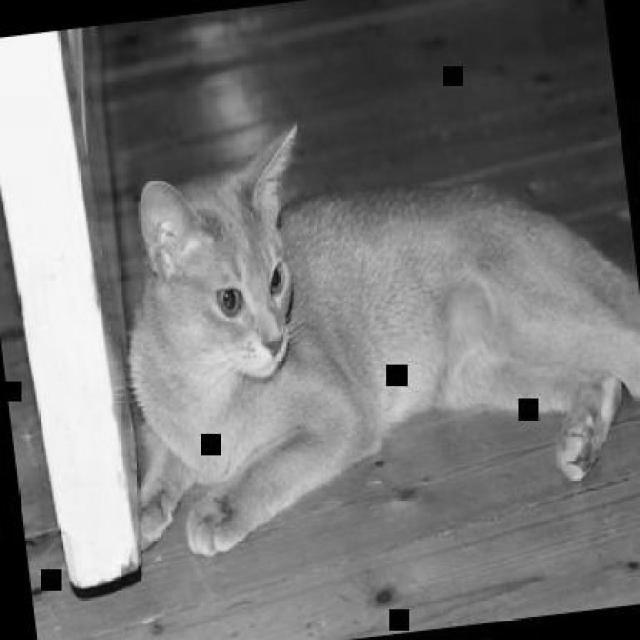Cat: (90, 81, 638, 570)
